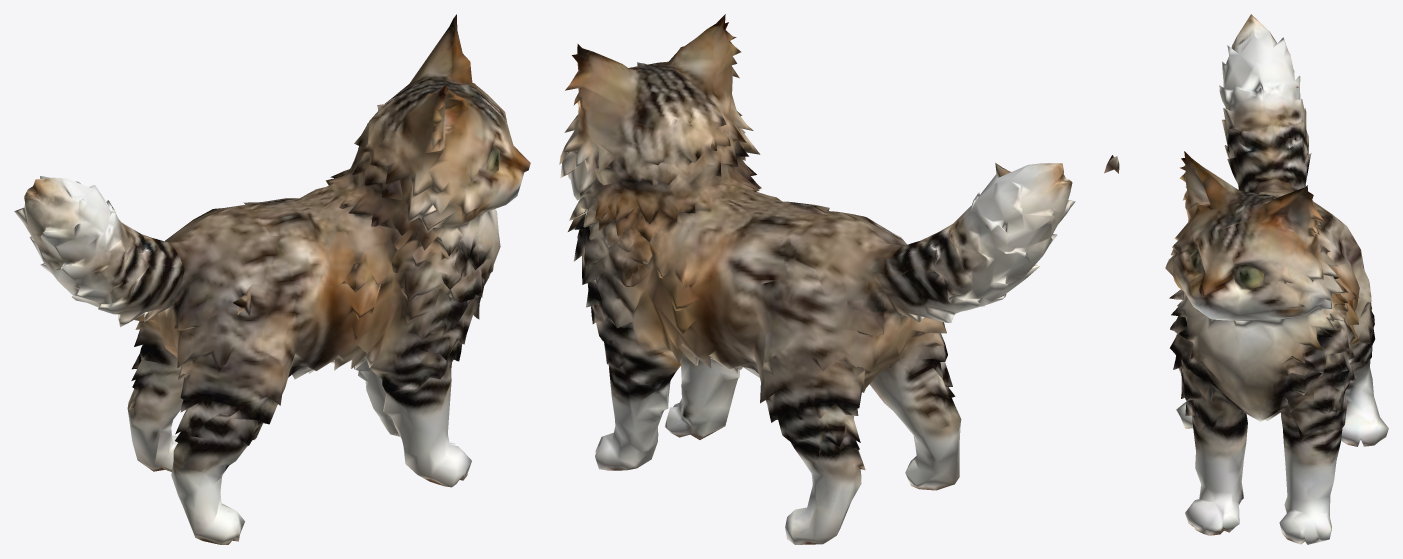
File: COUCHCAP-lo.glb
The picture shows the model from 3 angles, left to right: view 1: azimuth 30°, elevation 25°; view 2: azimuth 150°, elevation 25°; view 3: azimuth 270°, elevation 25°; orthographic projection. The views are drawn at different scales.
Visible parts, largest first — view 1: fit; view 2: fit; view 3: fit.
Part boxes in pixels (x1=…): fit: x1=14, y1=14, x2=530, y2=544; fit: x1=559, y1=14, x2=1075, y2=544; fit: x1=1104, y1=14, x2=1388, y2=544.
Bounding box in the file's own units: 1.24 × 0.9989 × 0.6953.
1 material, 1 textured.
